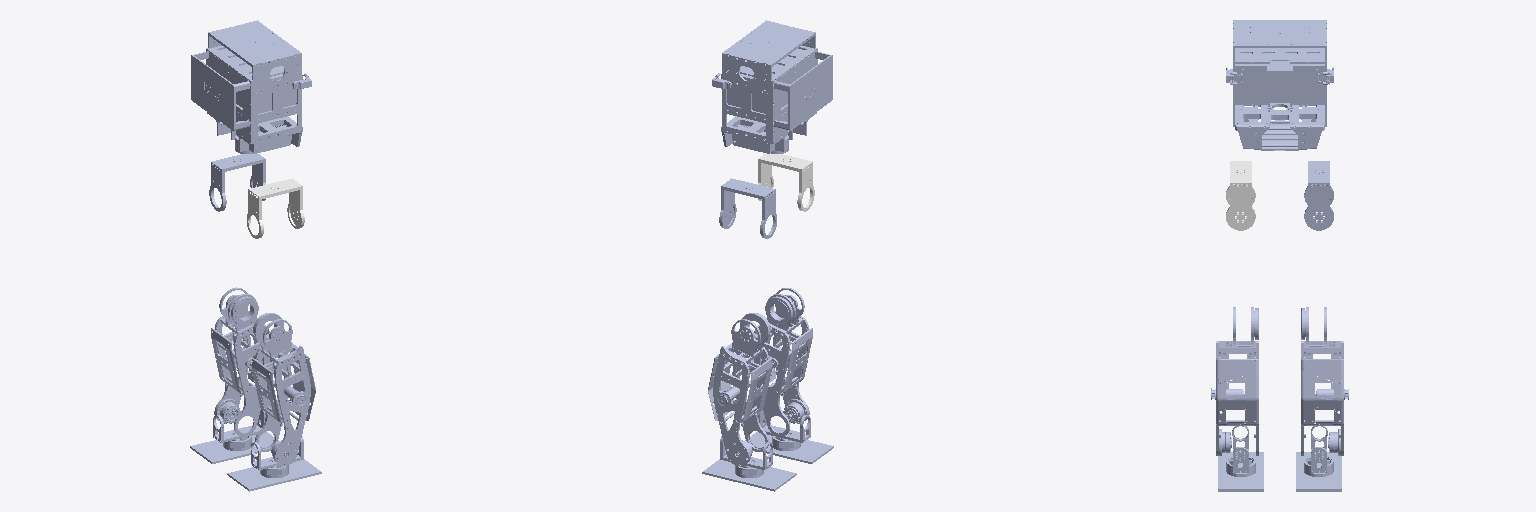
URDF robot description (rok3_model):
<?xml version="1.0" encoding="utf-8"?>
<!-- This URDF was automatically created by SolidWorks to URDF Exporter! Originally created by [author] ([email redacted])
     Commit Version: 1.6.0-4-g7f85cfe  Build Version: 1.6.7995.38578
     For more information, please see http://wiki.ros.org/sw_urdf_exporter -->
<robot
  name="rok3_model">
  <link
    name="base_link">
    <inertial>
      <origin
        xyz="-0.00929 0 0.00778"
        rpy="0 0 0" />
      <mass
        value="4.91195" />
      <inertia
        ixx="0.0365"
        ixy="0"
        ixz="0"
        iyy="0.00772"
        iyz="0"
        izz="0.03493" />
    </inertial>
    <visual>
      <origin
        xyz="0 0 0"
        rpy="0 0 0" />
      <geometry>
        <mesh
          filename="package://rok3_model/meshes/base_link.STL" />
      </geometry>
      <material
        name="">
        <color
          rgba="0.79216 0.81961 0.93333 1" />
      </material>
    </visual>
    <collision>
      <origin
        xyz="0 0 0"
        rpy="0 0 0" />
      <geometry>
        <mesh
          filename="package://rok3_model/meshes/base_link.STL" />
      </geometry>
    </collision>
  </link>
  <link
    name="Upper_body_link">
    <inertial>
      <origin
        xyz="0.00349 0.0005 0.22547"
        rpy="0 0 0" />
      <mass
        value="8.7701" />
      <inertia
        ixx="0.10602"
        ixy="0"
        ixz="0"
        iyy="0.09214"
        iyz="0"
        izz="0.08651" />
    </inertial>
    <visual>
      <origin
        xyz="0 0 0"
        rpy="0 0 0" />
      <geometry>
        <mesh
          filename="package://rok3_model/meshes/Upper_body_link.STL" />
      </geometry>
      <material
        name="">
        <color
          rgba="0.79216 0.81961 0.93333 1" />
      </material>
    </visual>
    <collision>
      <origin
        xyz="0 0 0"
        rpy="0 0 0" />
      <geometry>
        <mesh
          filename="package://rok3_model/meshes/Upper_body_link.STL" />
      </geometry>
    </collision>
  </link>
  <joint
    name="torso_joint"
    type="revolute">
    <origin
      xyz="-0.0305 0 0"
      rpy="0 0 0" />
    <parent
      link="base_link" />
    <child
      link="Upper_body_link" />
    <axis
      xyz="0 0 1" />
    <limit
      lower="0"
      upper="0"
      effort="0"
      velocity="0" />
  </joint>
  <link
    name="L_Hip_yaw_link">
    <inertial>
      <origin
        xyz="0.00818 0 0.05977"
        rpy="0 0 0" />
      <mass
        value="0.52735" />
      <inertia
        ixx="0.00108"
        ixy="0"
        ixz="0"
        iyy="0.0026"
        iyz="0"
        izz="0.00191" />
    </inertial>
    <visual>
      <origin
        xyz="0 0 0"
        rpy="0 0 0" />
      <geometry>
        <mesh
          filename="package://rok3_model/meshes/L_Hip_yaw_link.STL" />
      </geometry>
      <material
        name="">
        <color
          rgba="0.79216 0.81961 0.93333 1" />
      </material>
    </visual>
    <collision>
      <origin
        xyz="0 0 0"
        rpy="0 0 0" />
      <geometry>
        <mesh
          filename="package://rok3_model/meshes/L_Hip_yaw_link.STL" />
      </geometry>
    </collision>
  </link>
  <joint
    name="L_Hip_yaw_joint"
    type="revolute">
    <origin
      xyz="0 0.105 -0.1512"
      rpy="0 0 0" />
    <parent
      link="base_link" />
    <child
      link="L_Hip_yaw_link" />
    <axis
      xyz="0 0 1" />
    <limit
      lower="0"
      upper="0"
      effort="0"
      velocity="0" />
  </joint>
  <link
    name="L_Hip_roll_pitch_link">
    <inertial>
      <origin
        xyz="0.008 0.01822 -1E-05"
        rpy="0 0 0" />
      <mass
        value="3.9265" />
      <inertia
        ixx="0.00689"
        ixy="0"
        ixz="0"
        iyy="0.00735"
        iyz="0"
        izz="0.00861" />
    </inertial>
    <visual>
      <origin
        xyz="0 0 0"
        rpy="0 0 0" />
      <geometry>
        <mesh
          filename="package://rok3_model/meshes/L_Hip_roll_pitch_link.STL" />
      </geometry>
      <material
        name="">
        <color
          rgba="0.79216 0.81961 0.93333 1" />
      </material>
    </visual>
    <collision>
      <origin
        xyz="0 0 0"
        rpy="0 0 0" />
      <geometry>
        <mesh
          filename="package://rok3_model/meshes/L_Hip_roll_pitch_link.STL" />
      </geometry>
    </collision>
  </link>
  <joint
    name="L_Hip_roll_joint"
    type="revolute">
    <origin
      xyz="0 0 0"
      rpy="0 0 0" />
    <parent
      link="L_Hip_yaw_link" />
    <child
      link="L_Hip_roll_pitch_link" />
    <axis
      xyz="1 0 0" />
    <limit
      lower="0"
      upper="0"
      effort="0"
      velocity="0" />
  </joint>
  <link
    name="L_Thigh_link">
    <inertial>
      <origin
        xyz="0.01373 0.0244 -0.22423"
        rpy="0 0 0" />
      <mass
        value="4.9728" />
      <inertia
        ixx="0.07468"
        ixy="0"
        ixz="0"
        iyy="0.07322"
        iyz="0"
        izz="0.01579" />
    </inertial>
    <visual>
      <origin
        xyz="0 0 0"
        rpy="0 0 0" />
      <geometry>
        <mesh
          filename="package://rok3_model/meshes/L_Thigh_link.STL" />
      </geometry>
      <material
        name="">
        <color
          rgba="0.79216 0.81961 0.93333 1" />
      </material>
    </visual>
    <collision>
      <origin
        xyz="0 0 0"
        rpy="0 0 0" />
      <geometry>
        <mesh
          filename="package://rok3_model/meshes/L_Thigh_link.STL" />
      </geometry>
    </collision>
  </link>
  <joint
    name="L_Hip_pitch_joint"
    type="revolute">
    <origin
      xyz="0 0 0"
      rpy="0 0 0" />
    <parent
      link="L_Hip_roll_pitch_link" />
    <child
      link="L_Thigh_link" />
    <axis
      xyz="0 1 0" />
    <limit
      lower="0"
      upper="0"
      effort="0"
      velocity="0" />
  </joint>
  <link
    name="L_Calf_link">
    <inertial>
      <origin
        xyz="0.01497 0.0128 -0.18288"
        rpy="0 0 0" />
      <mass
        value="3.378" />
      <inertia
        ixx="0.05941"
        ixy="0"
        ixz="0"
        iyy="0.05717"
        iyz="0"
        izz="0.00957" />
    </inertial>
    <visual>
      <origin
        xyz="0 0 0"
        rpy="0 0 0" />
      <geometry>
        <mesh
          filename="package://rok3_model/meshes/L_Calf_link.STL" />
      </geometry>
      <material
        name="">
        <color
          rgba="0.79216 0.81961 0.93333 1" />
      </material>
    </visual>
    <collision>
      <origin
        xyz="0 0 0"
        rpy="0 0 0" />
      <geometry>
        <mesh
          filename="package://rok3_model/meshes/L_Calf_link.STL" />
      </geometry>
    </collision>
  </link>
  <joint
    name="L_Knee_joint"
    type="revolute">
    <origin
      xyz="0 0 -0.35"
      rpy="0 0 0" />
    <parent
      link="L_Thigh_link" />
    <child
      link="L_Calf_link" />
    <axis
      xyz="0 1 0" />
    <limit
      lower="0"
      upper="0"
      effort="0"
      velocity="0" />
  </joint>
  <link
    name="L_Ankle_pitch_link">
    <inertial>
      <origin
        xyz="0.01836 -0.00287 0.00268"
        rpy="0 0 0" />
      <mass
        value="1.5671" />
      <inertia
        ixx="0.00139"
        ixy="0"
        ixz="0"
        iyy="0.00331"
        iyz="0"
        izz="0.00315" />
    </inertial>
    <visual>
      <origin
        xyz="0 0 0"
        rpy="0 0 0" />
      <geometry>
        <mesh
          filename="package://rok3_model/meshes/L_Ankle_pitch_link.STL" />
      </geometry>
      <material
        name="">
        <color
          rgba="0.79216 0.81961 0.93333 1" />
      </material>
    </visual>
    <collision>
      <origin
        xyz="0 0 0"
        rpy="0 0 0" />
      <geometry>
        <mesh
          filename="package://rok3_model/meshes/L_Ankle_pitch_link.STL" />
      </geometry>
    </collision>
  </link>
  <joint
    name="L_Ankle_pitch_joint"
    type="revolute">
    <origin
      xyz="0 0.0001 -0.35"
      rpy="0 0 0" />
    <parent
      link="L_Calf_link" />
    <child
      link="L_Ankle_pitch_link" />
    <axis
      xyz="0 1 0" />
    <limit
      lower="0"
      upper="0"
      effort="0"
      velocity="0" />
  </joint>
  <link
    name="L_Ankle_roll_link">
    <inertial>
      <origin
        xyz="0.01905 0 -0.03706"
        rpy="0 0 0" />
      <mass
        value="0.20333" />
      <inertia
        ixx="0.00011"
        ixy="0"
        ixz="0"
        iyy="0.00063"
        iyz="0"
        izz="0.00059" />
    </inertial>
    <visual>
      <origin
        xyz="0 0 0"
        rpy="0 0 0" />
      <geometry>
        <mesh
          filename="package://rok3_model/meshes/L_Ankle_roll_link.STL" />
      </geometry>
      <material
        name="">
        <color
          rgba="0.79216 0.81961 0.93333 1" />
      </material>
    </visual>
    <collision>
      <origin
        xyz="0 0 0"
        rpy="0 0 0" />
      <geometry>
        <mesh
          filename="package://rok3_model/meshes/L_Ankle_roll_link.STL" />
      </geometry>
    </collision>
  </link>
  <joint
    name="L_Ankle_roll_joint"
    type="revolute">
    <origin
      xyz="0 0 0"
      rpy="0 0 0" />
    <parent
      link="L_Ankle_pitch_link" />
    <child
      link="L_Ankle_roll_link" />
    <axis
      xyz="1 0 0" />
    <limit
      lower="0"
      upper="0"
      effort="0"
      velocity="0" />
  </joint>
  <link
    name="L_Foot">
    <inertial>
      <origin
        xyz="0 -0.001 0.00861"
        rpy="0 0 0" />
      <mass
        value="0.92659" />
      <inertia
        ixx="0.00107"
        ixy="0"
        ixz="0"
        iyy="0.00323"
        iyz="0"
        izz="0.00412" />
    </inertial>
    <visual>
      <origin
        xyz="0 0 0"
        rpy="0 0 0" />
      <geometry>
        <mesh
          filename="package://rok3_model/meshes/L_Foot.STL" />
      </geometry>
      <material
        name="">
        <color
          rgba="0.79216 0.81961 0.93333 1" />
      </material>
    </visual>
    <collision>
      <origin
        xyz="0 0 0"
        rpy="0 0 0" />
      <geometry>
        <mesh
          filename="package://rok3_model/meshes/L_Foot.STL" />
      </geometry>
    </collision>
  </link>
  <joint
    name="L_Foot_joint"
    type="fixed">
    <origin
      xyz="0 0 -0.09"
      rpy="0 0 0" />
    <parent
      link="L_Ankle_roll_link" />
    <child
      link="L_Foot" />
    <axis
      xyz="0 0 0" />
  </joint>
  <link
    name="R_Hip_yaw_link">
    <inertial>
      <origin
        xyz="0.00818 0 0.05977"
        rpy="0 0 0" />
      <mass
        value="0.52735" />
      <inertia
        ixx="0.00108"
        ixy="0"
        ixz="0"
        iyy="0.0026"
        iyz="0"
        izz="0.00191" />
    </inertial>
    <visual>
      <origin
        xyz="0 0 0"
        rpy="0 0 0" />
      <geometry>
        <mesh
          filename="package://rok3_model/meshes/R_Hip_yaw_link.STL" />
      </geometry>
      <material
        name="">
        <color
          rgba="1 1 1 1" />
      </material>
    </visual>
    <collision>
      <origin
        xyz="0 0 0"
        rpy="0 0 0" />
      <geometry>
        <mesh
          filename="package://rok3_model/meshes/R_Hip_yaw_link.STL" />
      </geometry>
    </collision>
  </link>
  <joint
    name="R_Hip_yaw_joint"
    type="revolute">
    <origin
      xyz="0 -0.105 -0.1512"
      rpy="0 0 0" />
    <parent
      link="base_link" />
    <child
      link="R_Hip_yaw_link" />
    <axis
      xyz="0 0 1" />
    <limit
      lower="0"
      upper="0"
      effort="0"
      velocity="0" />
  </joint>
  <link
    name="R_Hip_roll_pitch_link">
    <inertial>
      <origin
        xyz="0.008 -0.01822 -1E-05"
        rpy="0 0 0" />
      <mass
        value="3.9265" />
      <inertia
        ixx="0.00689"
        ixy="0"
        ixz="0"
        iyy="0.00735"
        iyz="0"
        izz="0.00861" />
    </inertial>
    <visual>
      <origin
        xyz="0 0 0"
        rpy="0 0 0" />
      <geometry>
        <mesh
          filename="package://rok3_model/meshes/R_Hip_roll_pitch_link.STL" />
      </geometry>
      <material
        name="">
        <color
          rgba="0.79216 0.81961 0.93333 1" />
      </material>
    </visual>
    <collision>
      <origin
        xyz="0 0 0"
        rpy="0 0 0" />
      <geometry>
        <mesh
          filename="package://rok3_model/meshes/R_Hip_roll_pitch_link.STL" />
      </geometry>
    </collision>
  </link>
  <joint
    name="R_Hip_roll_joint"
    type="revolute">
    <origin
      xyz="0 0 0"
      rpy="0 0 0" />
    <parent
      link="R_Hip_yaw_link" />
    <child
      link="R_Hip_roll_pitch_link" />
    <axis
      xyz="1 0 0" />
    <limit
      lower="0"
      upper="0"
      effort="0"
      velocity="0" />
  </joint>
  <link
    name="R_Thigh_link">
    <inertial>
      <origin
        xyz="0.01373 -0.0244 -0.22423"
        rpy="0 0 0" />
      <mass
        value="4.9728" />
      <inertia
        ixx="0.07468"
        ixy="0"
        ixz="0"
        iyy="0.07322"
        iyz="0"
        izz="0.01579" />
    </inertial>
    <visual>
      <origin
        xyz="0 0 0"
        rpy="0 0 0" />
      <geometry>
        <mesh
          filename="package://rok3_model/meshes/R_Thigh_link.STL" />
      </geometry>
      <material
        name="">
        <color
          rgba="0.79216 0.81961 0.93333 1" />
      </material>
    </visual>
    <collision>
      <origin
        xyz="0 0 0"
        rpy="0 0 0" />
      <geometry>
        <mesh
          filename="package://rok3_model/meshes/R_Thigh_link.STL" />
      </geometry>
    </collision>
  </link>
  <joint
    name="R_Hip_pitch_joint"
    type="revolute">
    <origin
      xyz="0 0 0"
      rpy="0 0 0" />
    <parent
      link="R_Hip_roll_pitch_link" />
    <child
      link="R_Thigh_link" />
    <axis
      xyz="0 1 0" />
    <limit
      lower="0"
      upper="0"
      effort="0"
      velocity="0" />
  </joint>
  <link
    name="R_Calf_link">
    <inertial>
      <origin
        xyz="0.01497 -0.0128 -0.18288"
        rpy="0 0 0" />
      <mass
        value="3.378" />
      <inertia
        ixx="0.05941"
        ixy="0"
        ixz="0"
        iyy="0.05717"
        iyz="0"
        izz="0.00957" />
    </inertial>
    <visual>
      <origin
        xyz="0 0 0"
        rpy="0 0 0" />
      <geometry>
        <mesh
          filename="package://rok3_model/meshes/R_Calf_link.STL" />
      </geometry>
      <material
        name="">
        <color
          rgba="0.79216 0.81961 0.93333 1" />
      </material>
    </visual>
    <collision>
      <origin
        xyz="0 0 0"
        rpy="0 0 0" />
      <geometry>
        <mesh
          filename="package://rok3_model/meshes/R_Calf_link.STL" />
      </geometry>
    </collision>
  </link>
  <joint
    name="R_Knee_joint"
    type="revolute">
    <origin
      xyz="0 0 -0.35"
      rpy="0 0 0" />
    <parent
      link="R_Thigh_link" />
    <child
      link="R_Calf_link" />
    <axis
      xyz="0 1 0" />
    <limit
      lower="0"
      upper="0"
      effort="0"
      velocity="0" />
  </joint>
  <link
    name="R_Ankle_pitch_link">
    <inertial>
      <origin
        xyz="0.01836 0.00287 0.00268"
        rpy="0 0 0" />
      <mass
        value="1.5671" />
      <inertia
        ixx="0.00139"
        ixy="0"
        ixz="0"
        iyy="0.00331"
        iyz="0"
        izz="0.00315" />
    </inertial>
    <visual>
      <origin
        xyz="0 0 0"
        rpy="0 0 0" />
      <geometry>
        <mesh
          filename="package://rok3_model/meshes/R_Ankle_pitch_link.STL" />
      </geometry>
      <material
        name="">
        <color
          rgba="0.79216 0.81961 0.93333 1" />
      </material>
    </visual>
    <collision>
      <origin
        xyz="0 0 0"
        rpy="0 0 0" />
      <geometry>
        <mesh
          filename="package://rok3_model/meshes/R_Ankle_pitch_link.STL" />
      </geometry>
    </collision>
  </link>
  <joint
    name="R_Ankle_pitch_joint"
    type="revolute">
    <origin
      xyz="0 -0.0001 -0.35"
      rpy="0 0 0" />
    <parent
      link="R_Calf_link" />
    <child
      link="R_Ankle_pitch_link" />
    <axis
      xyz="0 1 0" />
    <limit
      lower="0"
      upper="0"
      effort="0"
      velocity="0" />
  </joint>
  <link
    name="R_Ankle_roll_link">
    <inertial>
      <origin
        xyz="0.01905 0 -0.03706"
        rpy="0 0 0" />
      <mass
        value="0.20333" />
      <inertia
        ixx="0.00011"
        ixy="0"
        ixz="0"
        iyy="0.00063"
        iyz="0"
        izz="0.00059" />
    </inertial>
    <visual>
      <origin
        xyz="0 0 0"
        rpy="0 0 0" />
      <geometry>
        <mesh
          filename="package://rok3_model/meshes/R_Ankle_roll_link.STL" />
      </geometry>
      <material
        name="">
        <color
          rgba="0.79216 0.81961 0.93333 1" />
      </material>
    </visual>
    <collision>
      <origin
        xyz="0 0 0"
        rpy="0 0 0" />
      <geometry>
        <mesh
          filename="package://rok3_model/meshes/R_Ankle_roll_link.STL" />
      </geometry>
    </collision>
  </link>
  <joint
    name="R_Ankle_roll_joint"
    type="revolute">
    <origin
      xyz="0 0 0"
      rpy="0 0 0" />
    <parent
      link="R_Ankle_pitch_link" />
    <child
      link="R_Ankle_roll_link" />
    <axis
      xyz="1 0 0" />
    <limit
      lower="0"
      upper="0"
      effort="0"
      velocity="0" />
  </joint>
  <link
    name="R_Foot">
    <inertial>
      <origin
        xyz="0 0.001 0.00861"
        rpy="0 0 0" />
      <mass
        value="0.92659" />
      <inertia
        ixx="0.00107"
        ixy="0"
        ixz="0"
        iyy="0.00323"
        iyz="0"
        izz="0.00412" />
    </inertial>
    <visual>
      <origin
        xyz="0 0 0"
        rpy="0 0 0" />
      <geometry>
        <mesh
          filename="package://rok3_model/meshes/R_Foot.STL" />
      </geometry>
      <material
        name="">
        <color
          rgba="0.79216 0.81961 0.93333 1" />
      </material>
    </visual>
    <collision>
      <origin
        xyz="0 0 0"
        rpy="0 0 0" />
      <geometry>
        <mesh
          filename="package://rok3_model/meshes/R_Foot.STL" />
      </geometry>
    </collision>
  </link>
  <joint
    name="R_Foot_joint"
    type="fixed">
    <origin
      xyz="0 0 -0.09"
      rpy="0 0 0" />
    <parent
      link="R_Ankle_roll_link" />
    <child
      link="R_Foot" />
    <axis
      xyz="0 0 0" />
  </joint>
</robot>

--- Facts derived from the render (not from the file) ---
3 views of the same robot in one strip: view 1: azimuth 30°, elevation 25°; view 2: azimuth 150°, elevation 25°; view 3: azimuth 270°, elevation 25° (orthographic).
Robot: rok3_model — 16 links, 15 joints (13 revolute, 2 fixed); root link base_link; default pose: every joint at zero.
Links seen in each view (by area): view 1: Upper_body_link, R_Calf_link, L_Calf_link, R_Hip_yaw_link, R_Foot, L_Hip_yaw_link, L_Foot, L_Ankle_roll_link; view 2: Upper_body_link, L_Calf_link, R_Calf_link, L_Hip_yaw_link, L_Foot, R_Hip_yaw_link, R_Foot, R_Ankle_roll_link; view 3: Upper_body_link, R_Calf_link, L_Calf_link, L_Hip_yaw_link, R_Hip_yaw_link, L_Foot, R_Foot, L_Ankle_roll_link, R_Ankle_roll_link.
Link boxes in pixels (<box>): Upper_body_link: <box>191,20,311,153</box>; R_Calf_link: <box>251,313,315,465</box>; L_Calf_link: <box>211,287,272,436</box>; R_Hip_yaw_link: <box>247,178,304,238</box>; R_Foot: <box>227,459,321,491</box>; L_Hip_yaw_link: <box>209,153,265,211</box>; L_Foot: <box>190,431,278,463</box>; L_Ankle_roll_link: <box>213,409,265,442</box>; Upper_body_link: <box>712,20,832,153</box>; L_Calf_link: <box>708,313,772,465</box>; R_Calf_link: <box>751,288,812,436</box>; L_Hip_yaw_link: <box>719,178,776,238</box>; L_Foot: <box>702,459,796,491</box>; R_Hip_yaw_link: <box>758,153,814,211</box>; R_Foot: <box>745,431,833,463</box>; R_Ankle_roll_link: <box>758,409,810,442</box>; Upper_body_link: <box>1226,20,1333,150</box>; R_Calf_link: <box>1211,307,1258,455</box>; L_Calf_link: <box>1301,307,1348,455</box>; L_Hip_yaw_link: <box>1304,161,1333,230</box>; R_Hip_yaw_link: <box>1226,161,1255,230</box>; L_Foot: <box>1296,452,1341,491</box>; R_Foot: <box>1218,452,1263,491</box>; L_Ankle_roll_link: <box>1311,426,1327,472</box>; R_Ankle_roll_link: <box>1232,426,1248,472</box>.
Bounding box of the posed robot: 0.2589 × 0.3695 × 1.3 m (x, y, z).
9 mesh visuals loaded from 16 distinct referenced files (9 binary STL); not drawn: 7 (reference not matched to a file when rendering).